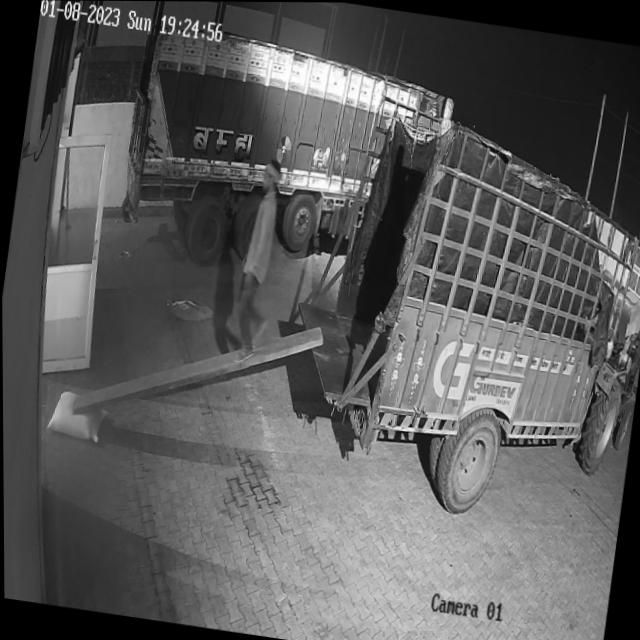sack: (46, 389, 109, 444)
